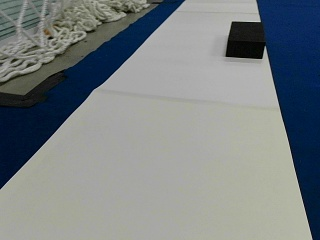block: (225, 21, 265, 58)
